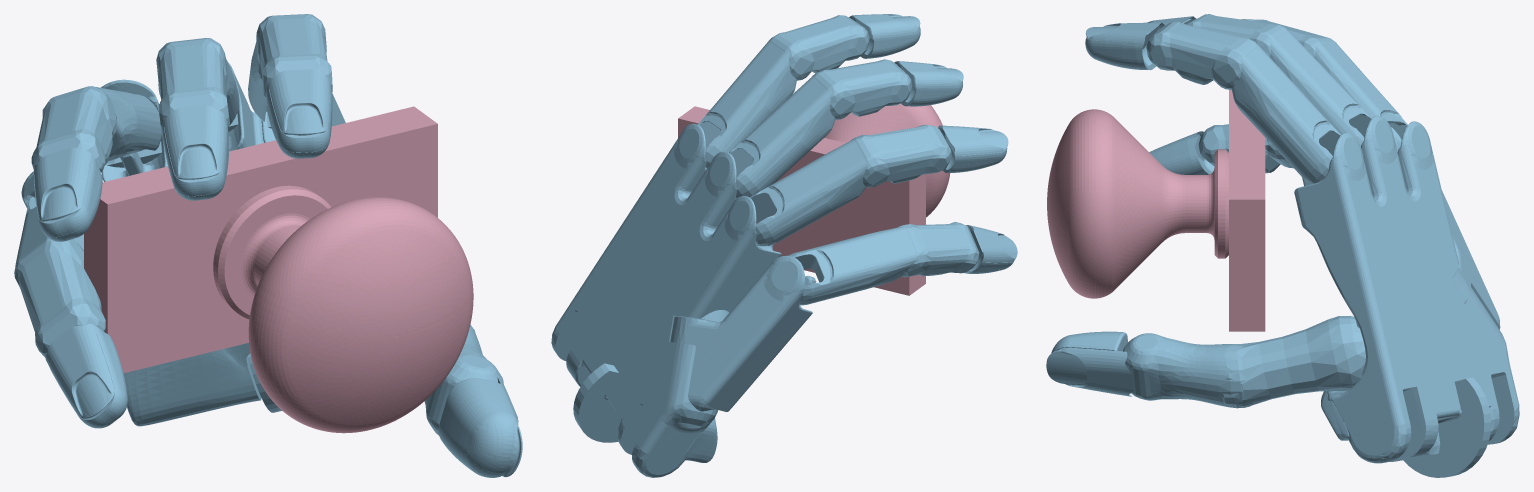
The picture shows the model from 3 angles, left to right: view 1: azimuth 30°, elevation 25°; view 2: azimuth 150°, elevation 25°; view 3: azimuth 270°, elevation 25°; orthographic projection. The views are drawn at different scales.
Visible parts, largest first — view 1: door_knob.stl, world; view 2: world, door_knob.stl; view 3: world, door_knob.stl.
Part boxes in pixels (x1,y1,x2,y2): door_knob.stl: (84,106,473,433); world: (14,14,522,477); world: (551,14,1017,477); door_knob.stl: (678,103,950,295); world: (1046,14,1519,477); door_knob.stl: (1047,89,1265,331).
Size of the model in its own units: 0.1555 by 0.1488 by 0.1624.
